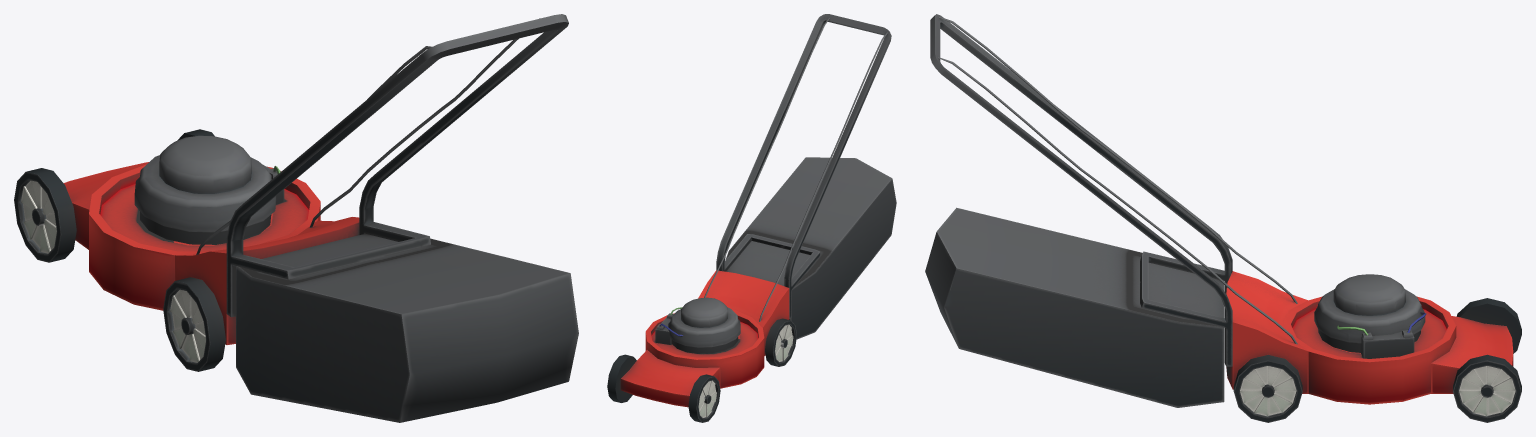
Rendered from LawnMoverSketchFab.fbx.
3 views of the same model, side by side, from view 1: azimuth 30°, elevation 25°; view 2: azimuth 150°, elevation 25°; view 3: azimuth 270°, elevation 25° (orthographic). The views are drawn at different scales.
Parts seen in each view (by area): view 1: Bag, HandleBar, Engine, MainBody, WheelBL, WheelFL, BackBody, FrontBody; view 2: Bag, HandleBar, MainBody, Engine, BackBody, FrontBody, WheelFL, WheelBL, WheelFR; view 3: Bag, HandleBar, MainBody, Engine, BackBody, WheelBR, WheelFR, FrontBody, WheelFL.
Part boxes in pixels (box(x1,y1,x2,y2)): Bag: box(236, 233, 578, 422); HandleBar: box(196, 14, 568, 317); Engine: box(134, 135, 284, 244); MainBody: box(89, 164, 320, 310); WheelBL: box(163, 277, 225, 371); WheelFL: box(14, 168, 76, 262); BackBody: box(175, 217, 359, 344); FrontBody: box(63, 162, 148, 249); Bag: box(725, 157, 896, 339); HandleBar: box(704, 14, 891, 321); MainBody: box(645, 309, 764, 388); Engine: box(655, 297, 740, 353); BackBody: box(698, 270, 789, 355); FrontBody: box(620, 350, 720, 407); WheelFL: box(688, 374, 720, 422); WheelBL: box(765, 318, 796, 366); WheelFR: box(607, 354, 636, 402); Bag: box(925, 207, 1224, 407); HandleBar: box(930, 14, 1297, 366); MainBody: box(1283, 296, 1456, 404); Engine: box(1314, 274, 1426, 358); BackBody: box(1226, 271, 1308, 393); WheelBR: box(1233, 354, 1302, 422); WheelFR: box(1453, 354, 1521, 422); FrontBody: box(1431, 316, 1513, 393); WheelFL: box(1456, 298, 1521, 353).
Size of the model in its own units: 134 by 308 by 467.
